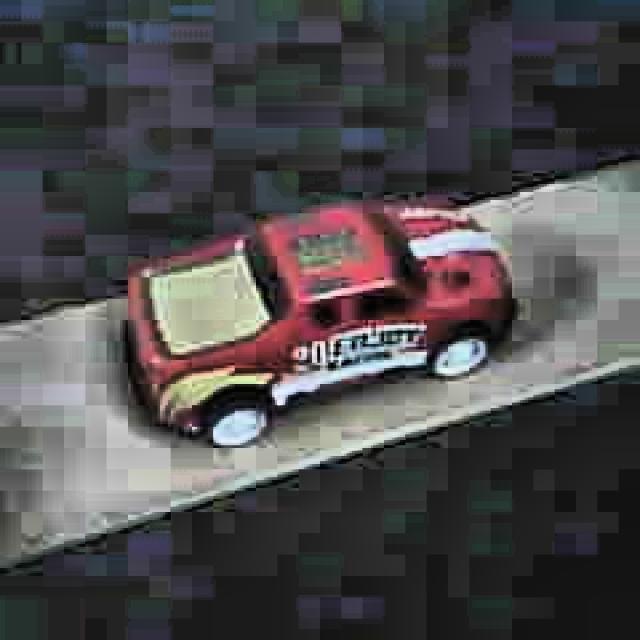car: (122, 198, 517, 451)
